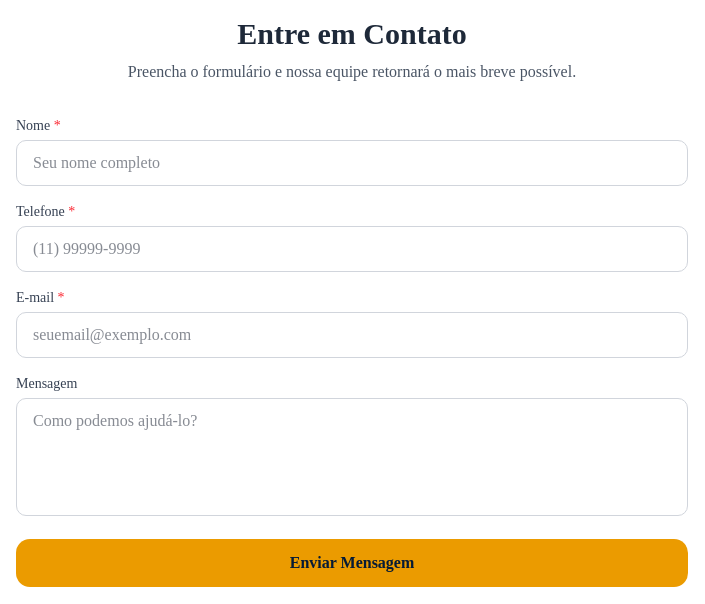
Test case: LeadGeneralForm › exibe mensagem de sucesso após envio bem-sucedido
The width and height of the screenshot is (705, 604).
Type "João Silva" into the field labelled "Nome *" at point(352, 163), box [16, 140, 688, 186]
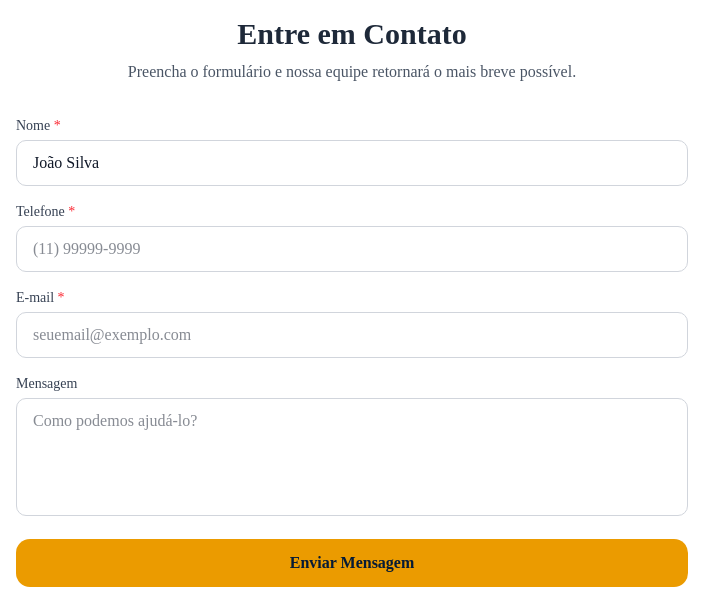
Type "11999999999" into the field labelled "Telefone *" at point(352, 249), box [16, 226, 688, 272]
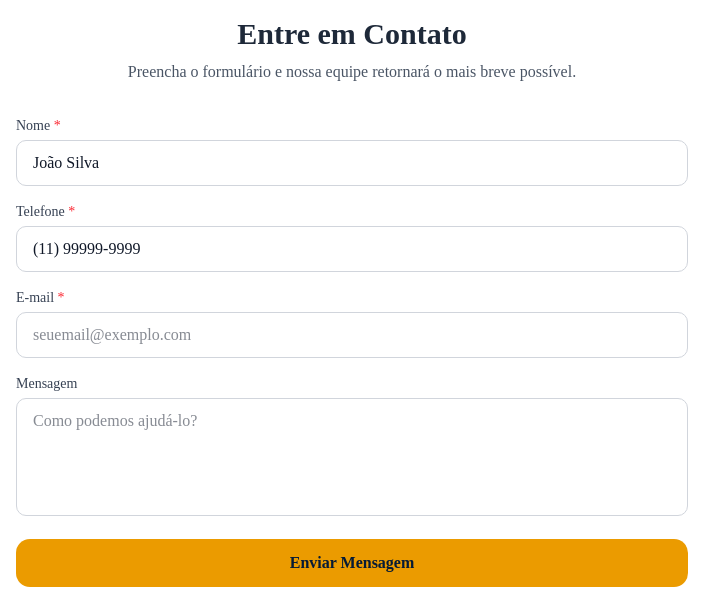
Type "joao@example.com" into the field labelled "E-mail *" at point(352, 335), box [16, 312, 688, 358]
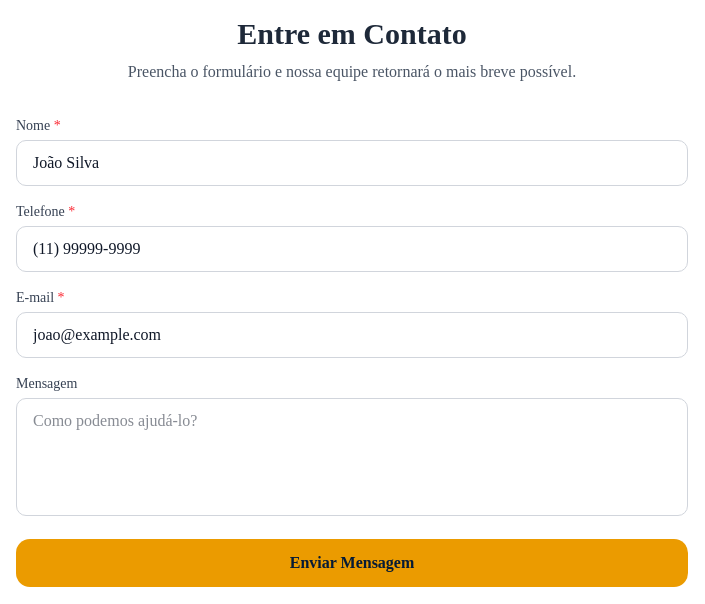
Submit the form with test id "lead-form"
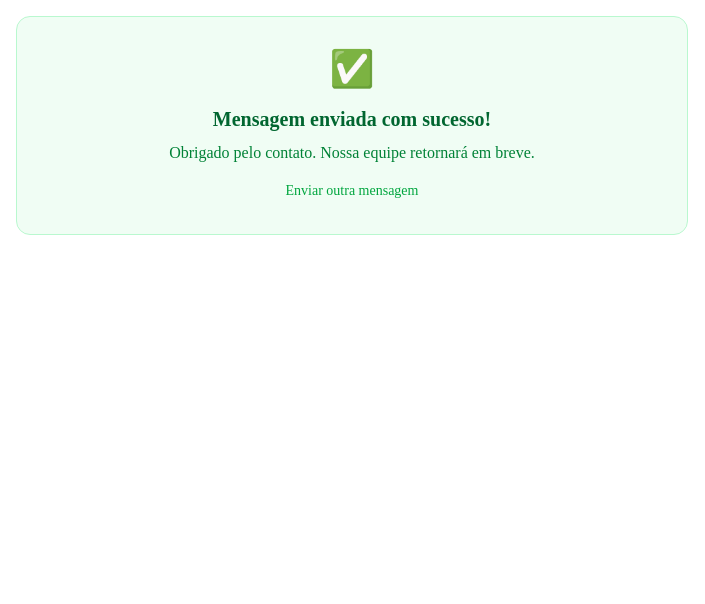
Check: the element with test id "success-message" is shown, box [16, 16, 688, 235]
Check: the heading "Mensagem enviada com sucesso!" is shown, box [213, 108, 491, 130]
